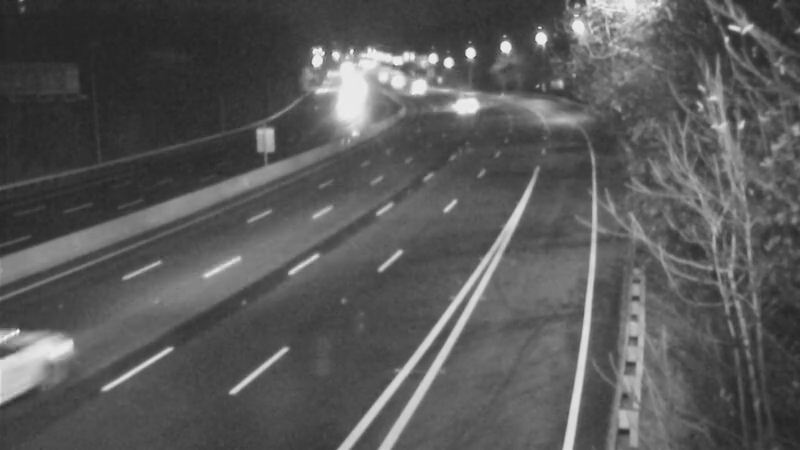vehicle: (354, 56, 404, 106), (369, 57, 419, 107), (389, 57, 439, 107), (396, 70, 446, 120), (438, 80, 488, 130), (324, 79, 374, 129)
